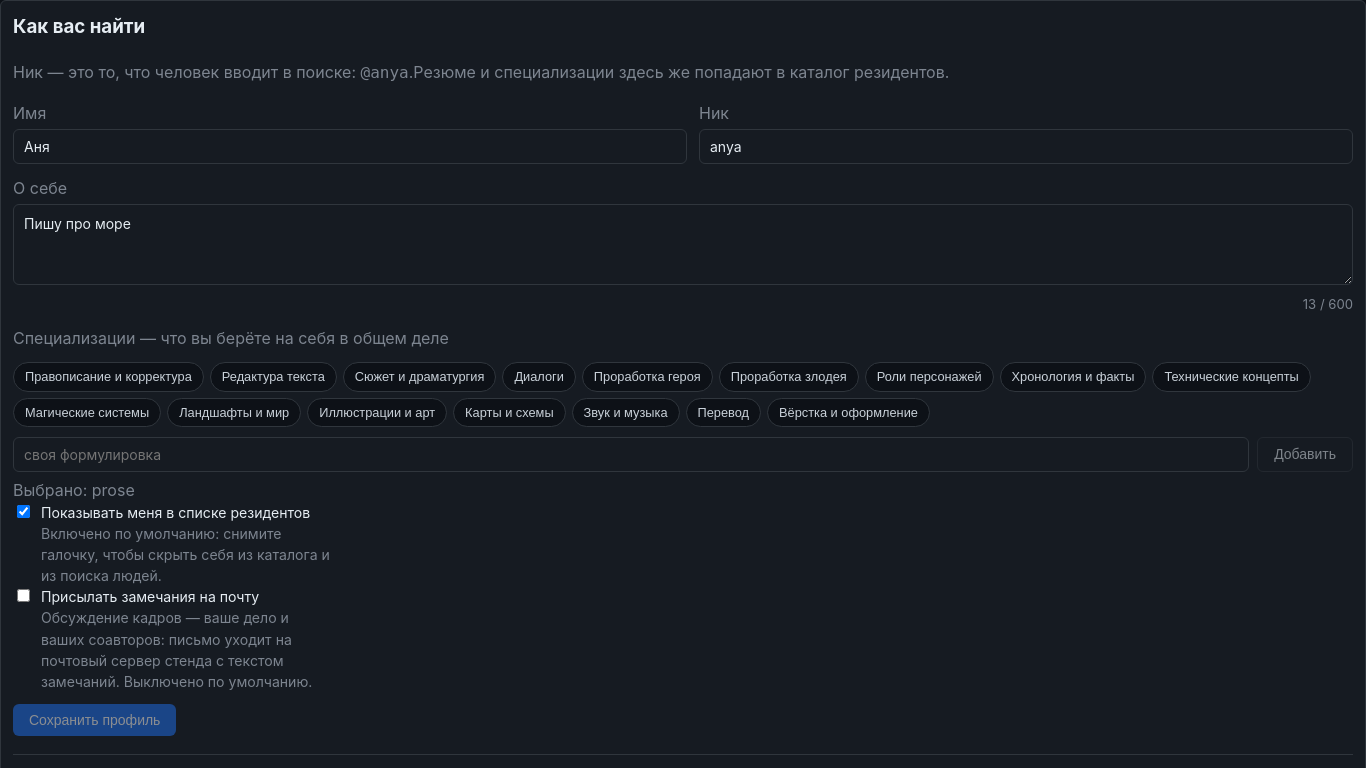
Test: ProfileCard › занятый ник объясняется словами, а не кодом
The width and height of the screenshot is (1366, 768).
Replace the text in the field named "Ваш ник" with "zanyat" at (1026, 146), box [699, 129, 1353, 164]
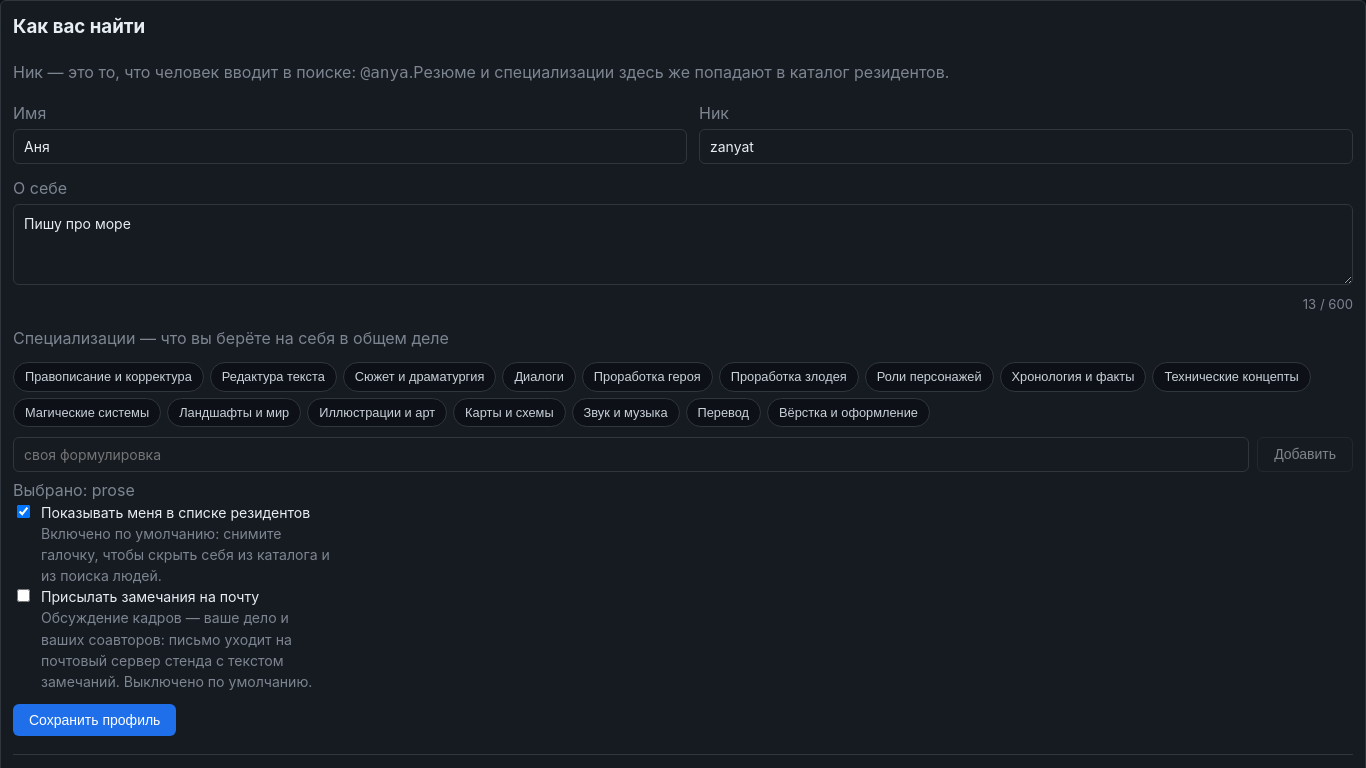
Click the button "Сохранить профиль" at (95, 720), box [13, 704, 176, 736]
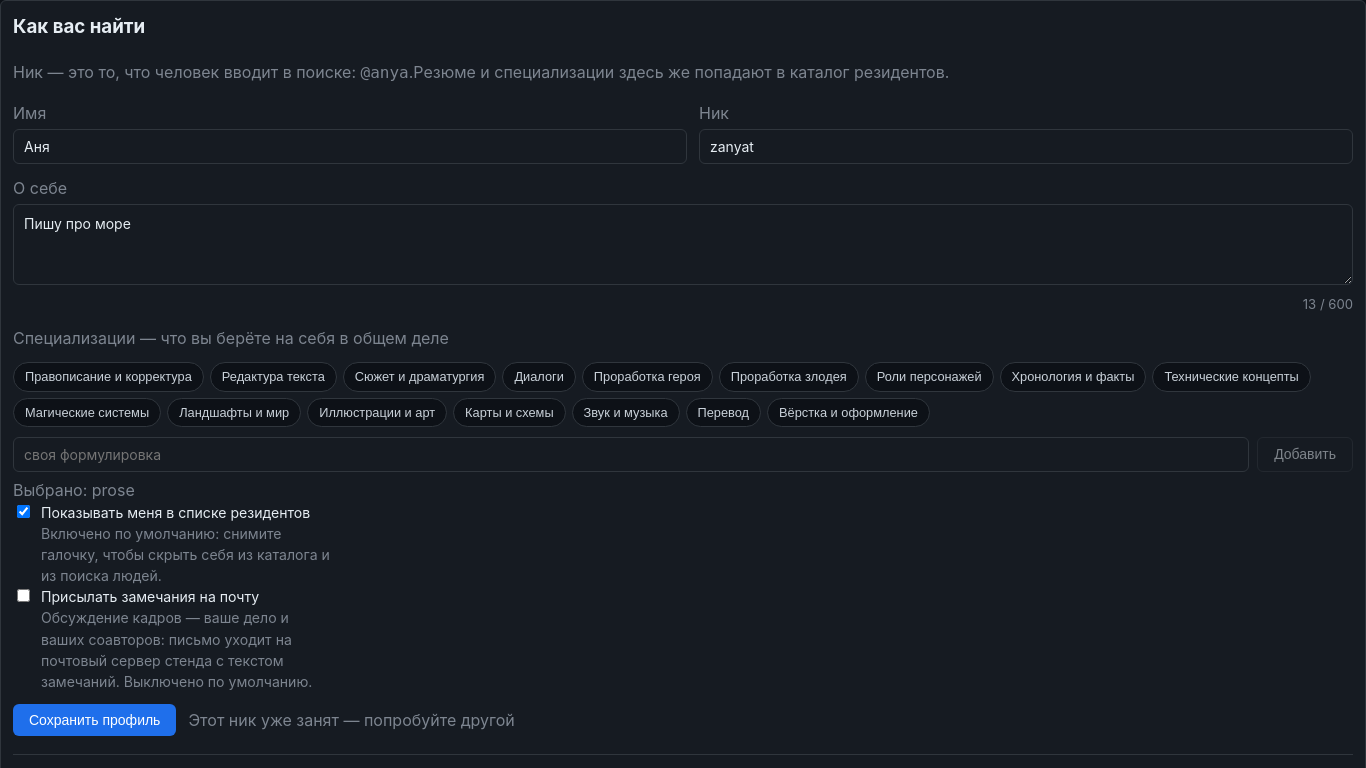
Check: the text "Этот ник уже занят — попробуйте другой" is shown, box [188, 708, 515, 732]
